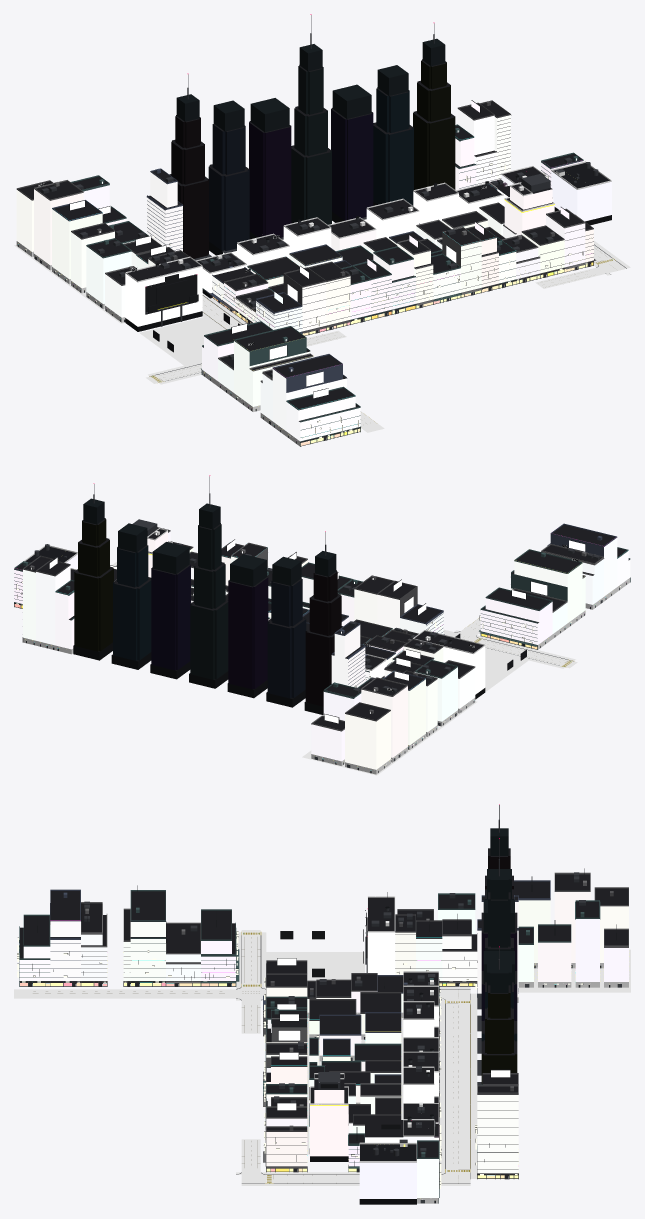
The model's file is world-phone-east.glb.
3 renders of one model, top to bottom at view 1: azimuth 30°, elevation 25°; view 2: azimuth 150°, elevation 25°; view 3: azimuth 270°, elevation 25°, orthographic. The views are drawn at different scales.
Parts seen in each view (by area): view 1: corpo_corporate, corpo_facade, plaza_facade, corpo_roof, corpo_trim, plaza_roof, corpo_crown_glass, plaza_trim, rooftop_facade, plaza_sidewalk, plaza_board_frame, plaza_facade_t0 (+13 smaller); view 2: corpo_corporate, plaza_facade, corpo_facade, plaza_roof, corpo_roof, corpo_crown_glass, plaza_trim, corpo_trim, corpo_dark, plaza_sidewalk, plaza_concrete, plaza_asphalt (+6 smaller); view 3: plaza_facade, corpo_roof, plaza_roof, corpo_facade, corpo_trim, plaza_trim, rooftop_facade, corpo_corporate, plaza_asphalt, corpo_asphalt, plaza_sidewalk, corpo_sidewalk (+17 smaller).
Part boxes in pixels (box(x1,y1,x2,y2)): corpo_corporate: box(171, 60, 455, 258); corpo_facade: box(147, 109, 593, 331); plaza_facade: box(16, 185, 360, 441); corpo_roof: box(149, 59, 591, 311); corpo_trim: box(146, 100, 596, 335); plaza_roof: box(18, 176, 358, 421); corpo_crown_glass: box(176, 38, 445, 132); plaza_trim: box(16, 175, 360, 446); rooftop_facade: box(504, 171, 611, 235); plaza_sidewalk: box(14, 245, 221, 384); plaza_board_frame: box(38, 182, 358, 437); plaza_facade_t0: box(125, 266, 202, 326); corpo_corporate: box(74, 518, 341, 706); plaza_facade: box(311, 538, 630, 769); corpo_facade: box(23, 531, 443, 687); plaza_roof: box(313, 525, 629, 730); corpo_roof: box(24, 518, 441, 669); corpo_crown_glass: box(83, 498, 336, 586); plaza_trim: box(311, 523, 630, 731); corpo_trim: box(22, 527, 444, 686); corpo_dark: box(73, 642, 323, 715); plaza_sidewalk: box(302, 630, 575, 775); plaza_concrete: box(311, 578, 629, 774); plaza_asphalt: box(443, 617, 577, 668); plaza_facade: box(19, 892, 628, 981); corpo_roof: box(266, 848, 518, 1135); plaza_roof: box(20, 874, 628, 962); corpo_facade: box(266, 902, 518, 1173); corpo_trim: box(263, 895, 518, 1179); plaza_trim: box(19, 872, 628, 986); rooftop_facade: box(310, 1090, 416, 1198); corpo_corporate: box(481, 856, 517, 1084); plaza_asphalt: box(14, 930, 264, 1033); corpo_asphalt: box(260, 989, 470, 1139); plaza_sidewalk: box(236, 932, 630, 1000); corpo_sidewalk: box(307, 986, 477, 1174).
Size of the model in its own units: 474 by 193 by 450.
